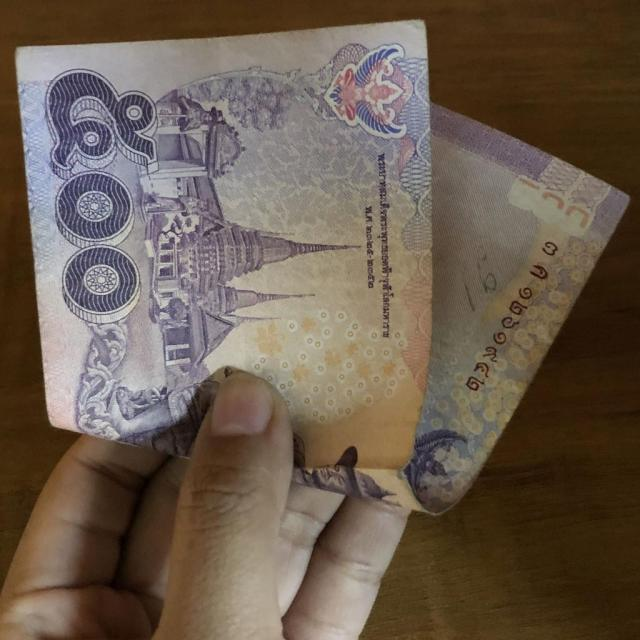THAI500: (17, 21, 628, 514)
